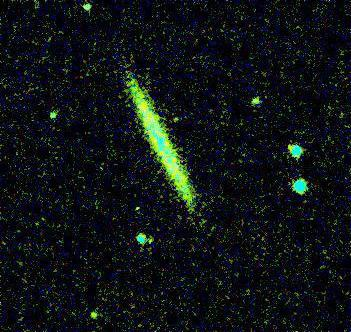star: (80, 300, 110, 330)
